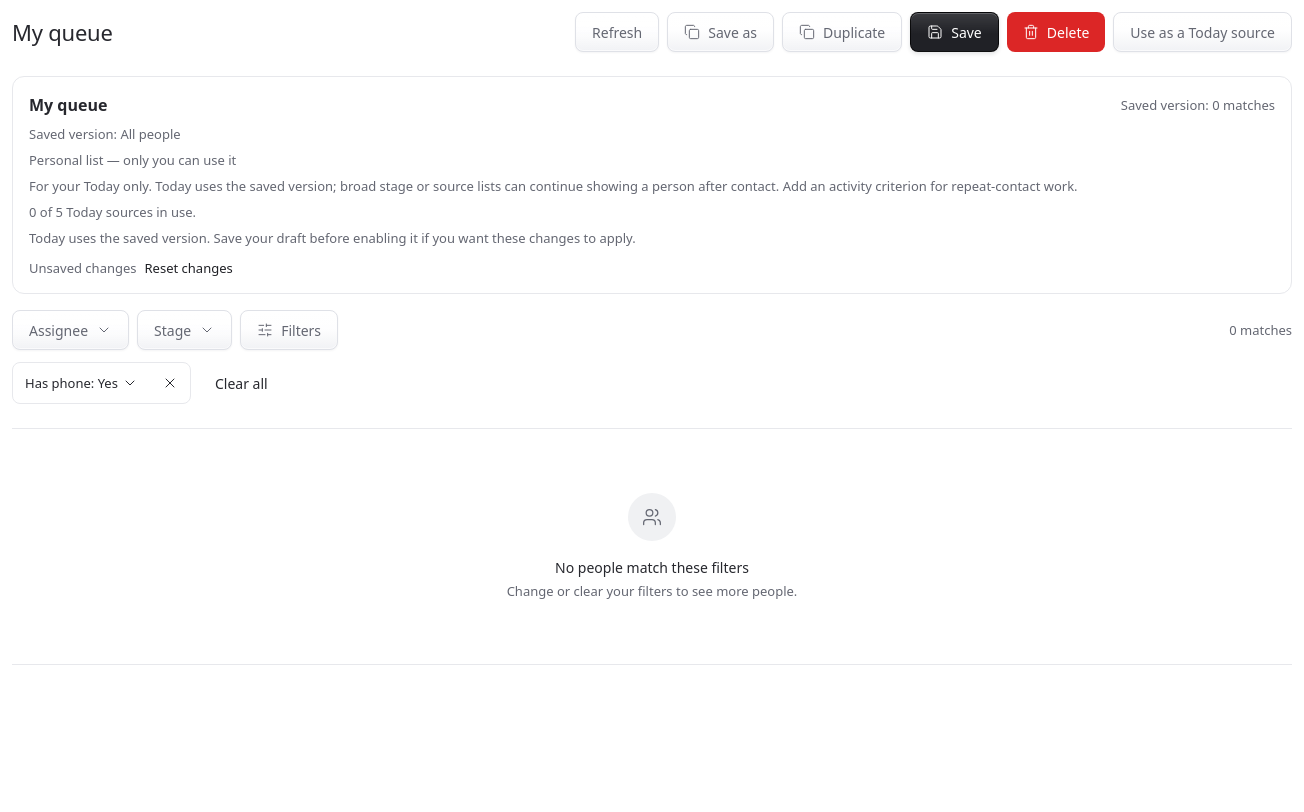
Test: PeopleView Today source controls › submits the retained revision-one baseline after dirty edits and a background revision-two update
Step 1. Click the button "Use as a Today source" → (1203, 32), box top-left (1113, 12), bottom-right (1292, 52)
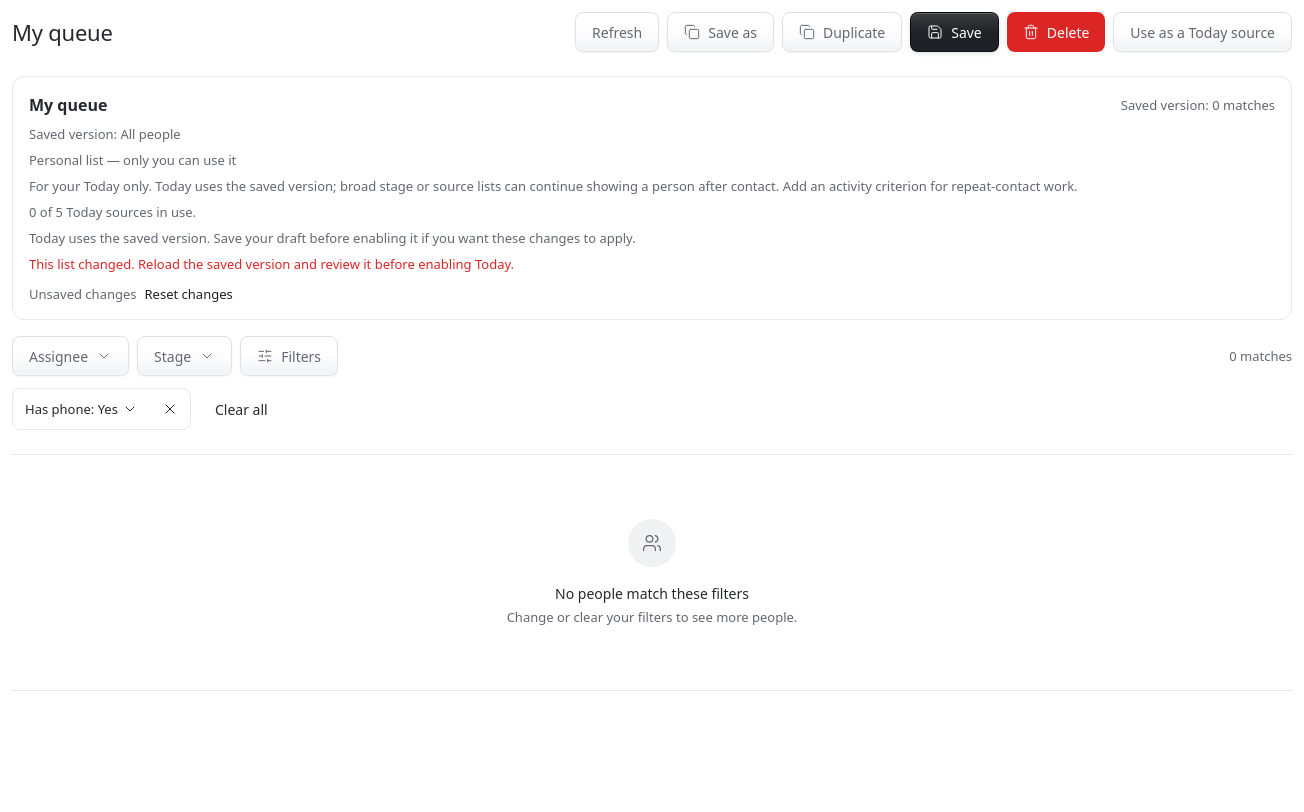
Expected: the 2nd message shows "This list changed. Reload the saved version", top-left (29, 255), bottom-right (514, 273)
